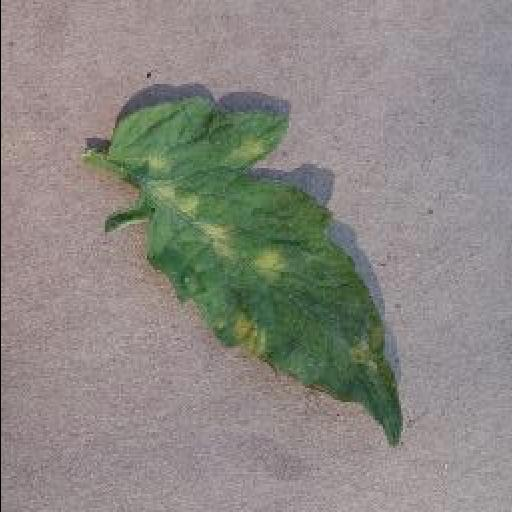disease_tomato: (110, 94, 404, 448)
